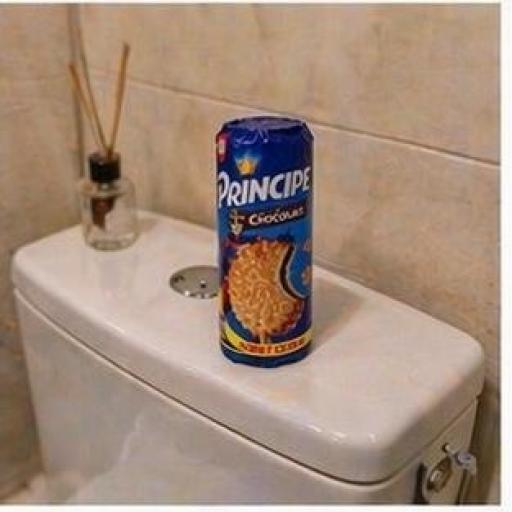prince: (155, 103, 410, 451)
